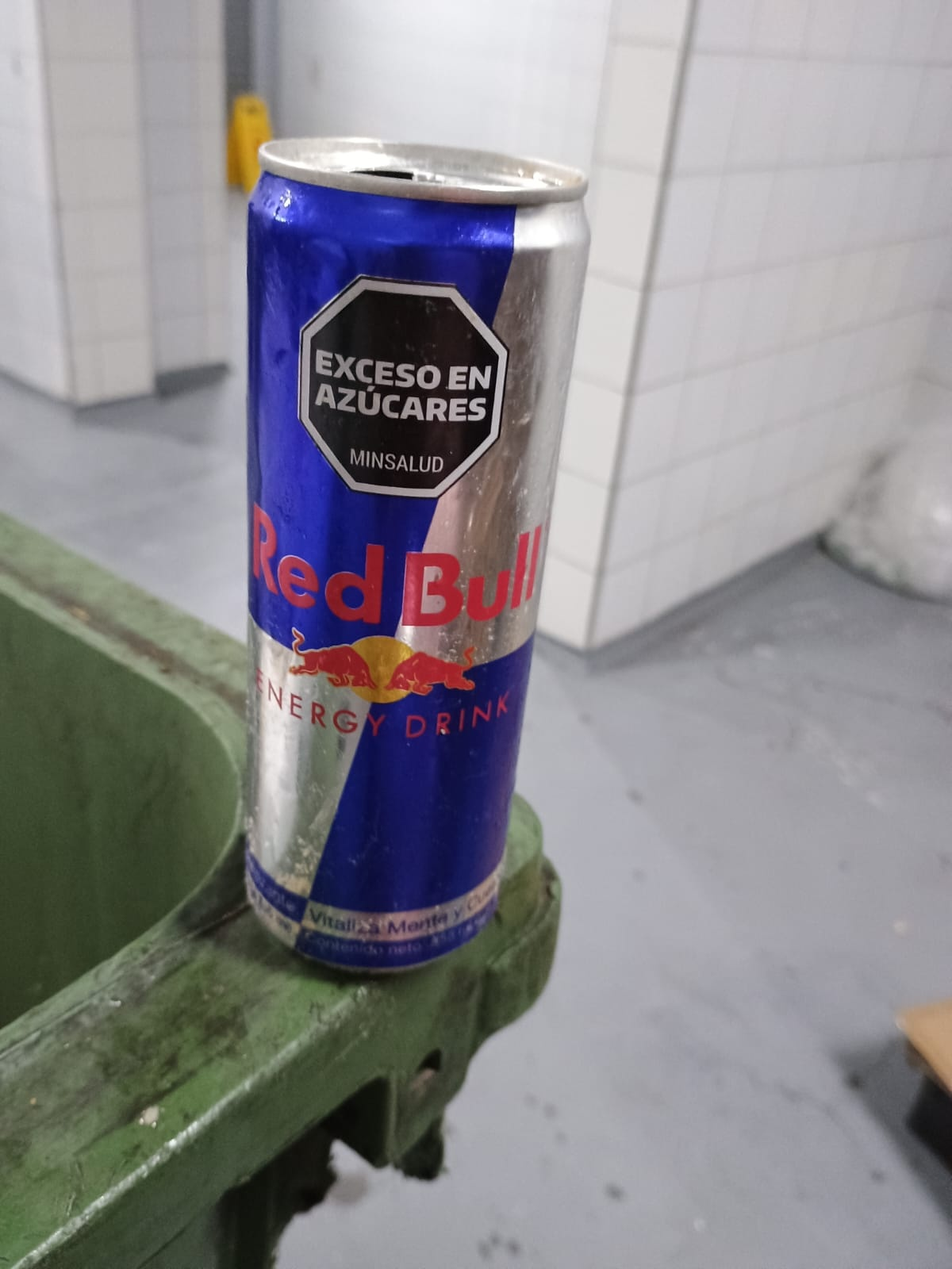Metal: (248, 129, 590, 977)
